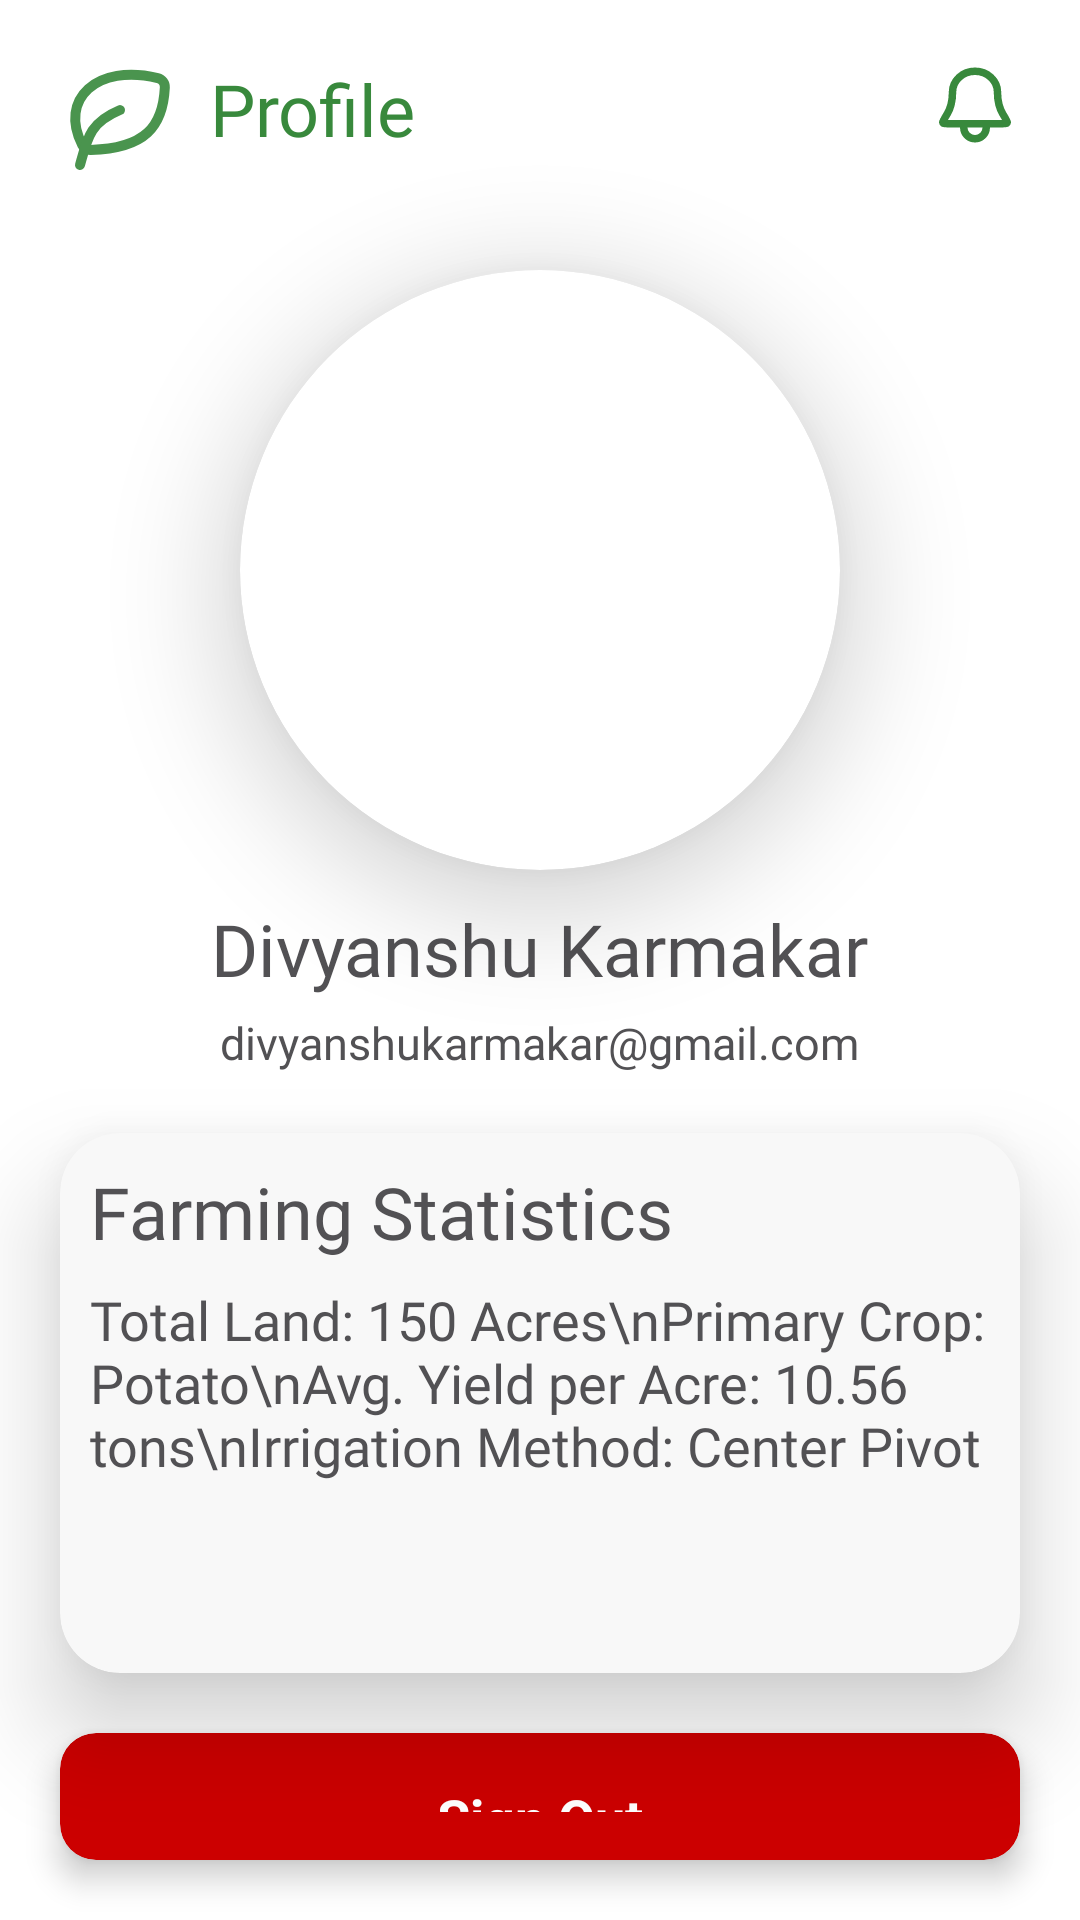

Screen size 1080 x 1920. Icon name, then its center in pixels as [x,y]:
bell: [975,105]
leaf: [120,119]
